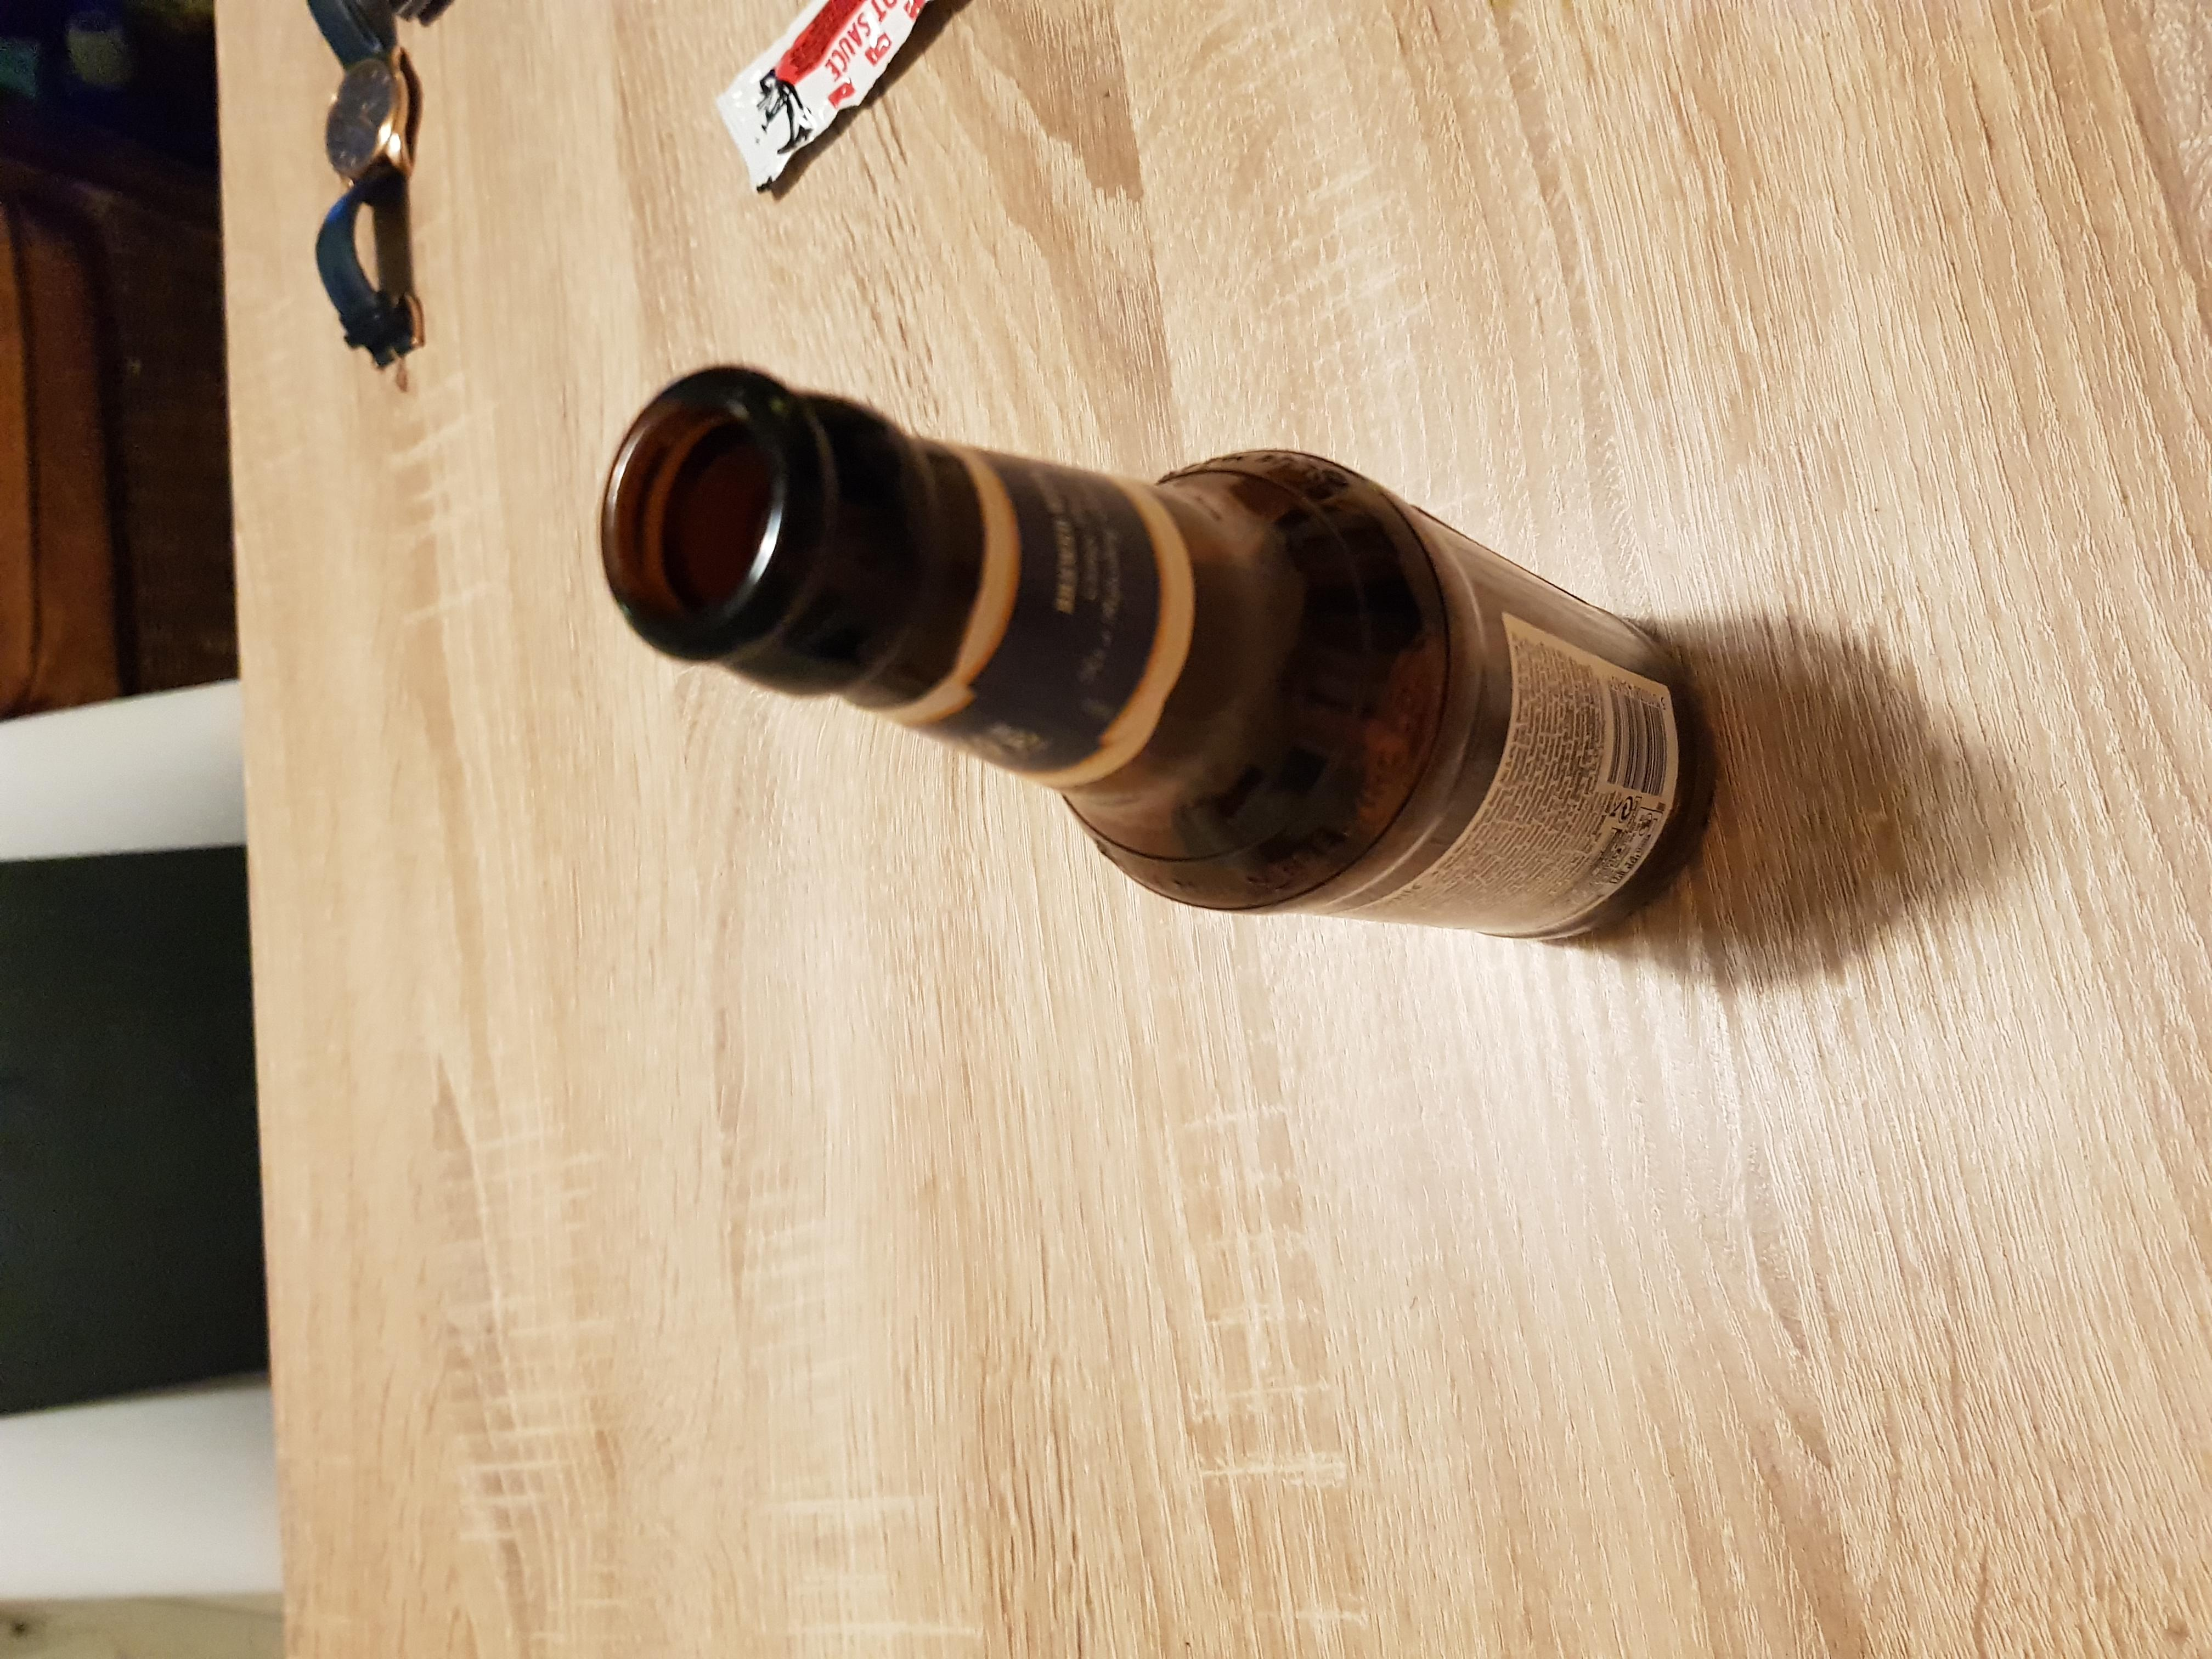Bottle: (592, 359, 1717, 929)
